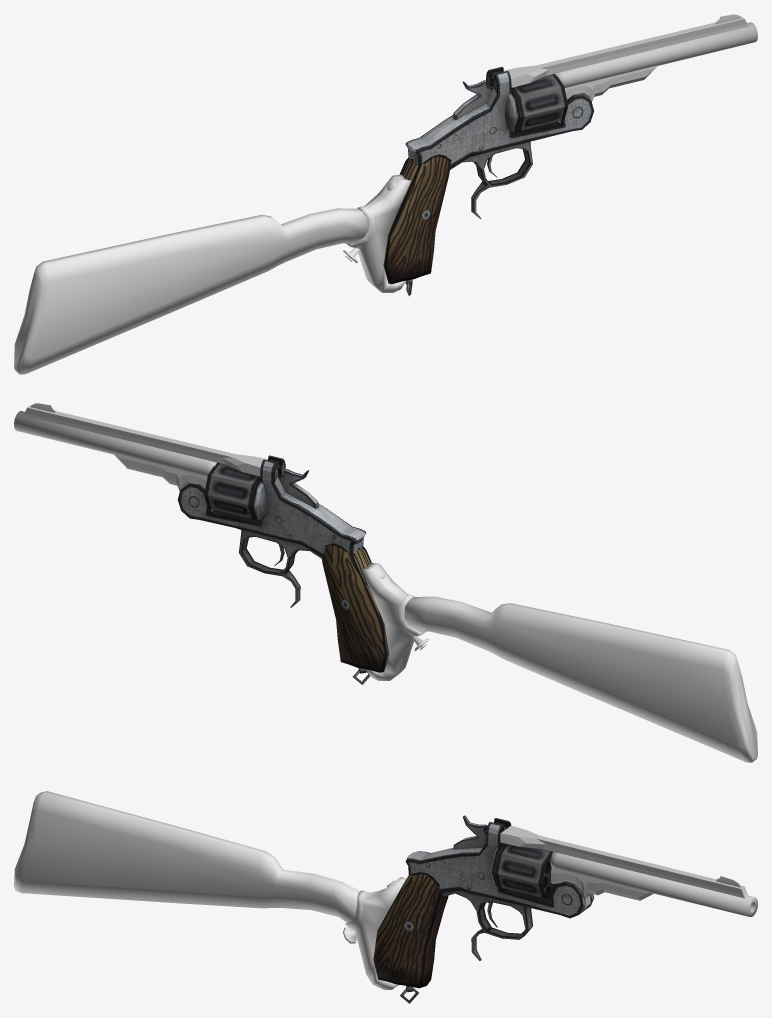
The model's file is WWGPistol_0.fbx.
3 views of the same model, one above another, from view 1: azimuth 30°, elevation 25°; view 2: azimuth 150°, elevation 25°; view 3: azimuth 330°, elevation 25° (orthographic).
Visible parts, largest first — view 1: Butt, Housing, Trunk, Handle, Drum, Striker; view 2: Butt, Housing, Trunk, Handle, Drum, Striker; view 3: Butt, Trunk, Housing, Handle, Drum, Striker.
Part boxes in pixels (bbox=[...]): Butt: bbox=[14, 174, 410, 374]; Housing: bbox=[405, 67, 593, 219]; Trunk: bbox=[503, 14, 757, 123]; Handle: bbox=[383, 154, 451, 296]; Drum: bbox=[511, 74, 567, 131]; Striker: bbox=[453, 80, 493, 119]; Butt: bbox=[361, 562, 757, 762]; Housing: bbox=[177, 455, 365, 607]; Trunk: bbox=[14, 403, 267, 511]; Handle: bbox=[321, 543, 389, 684]; Drum: bbox=[204, 462, 260, 519]; Striker: bbox=[278, 469, 318, 508]; Butt: bbox=[14, 791, 406, 989]; Trunk: bbox=[500, 825, 757, 916]; Housing: bbox=[405, 818, 594, 960]; Handle: bbox=[373, 872, 448, 1003]; Drum: bbox=[493, 843, 558, 898]; Striker: bbox=[453, 815, 487, 849].
Bounding box in the file's own units: 697 × 184 × 43.52.
